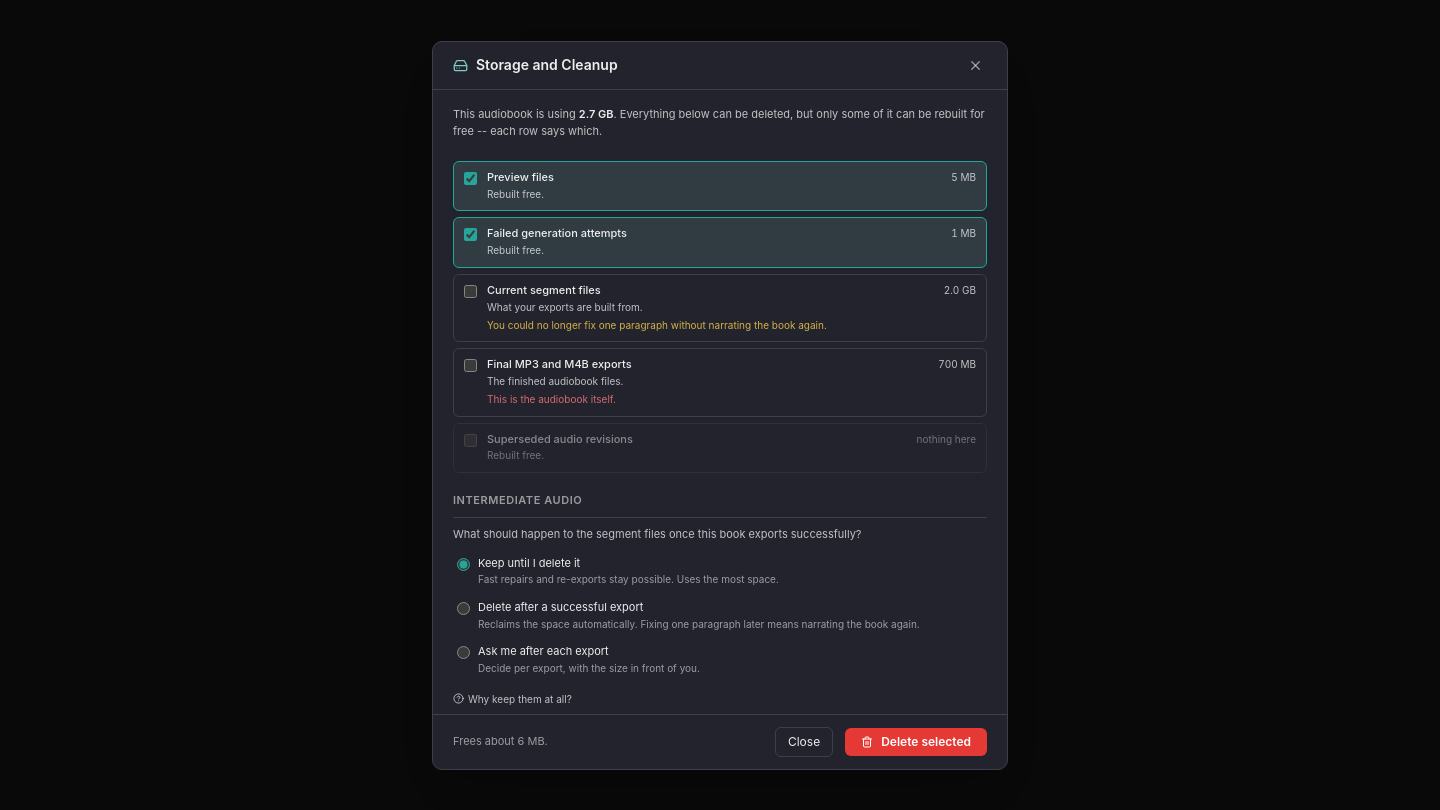
StorageDialog › cannot delete with nothing selected
The width and height of the screenshot is (1440, 810).
Expected: the text "Preview files" is shown, [487, 170, 554, 186]
Click the checkbox labelled "Preview files 5 MB Rebuilt free." at (470, 179), box [464, 172, 477, 185]
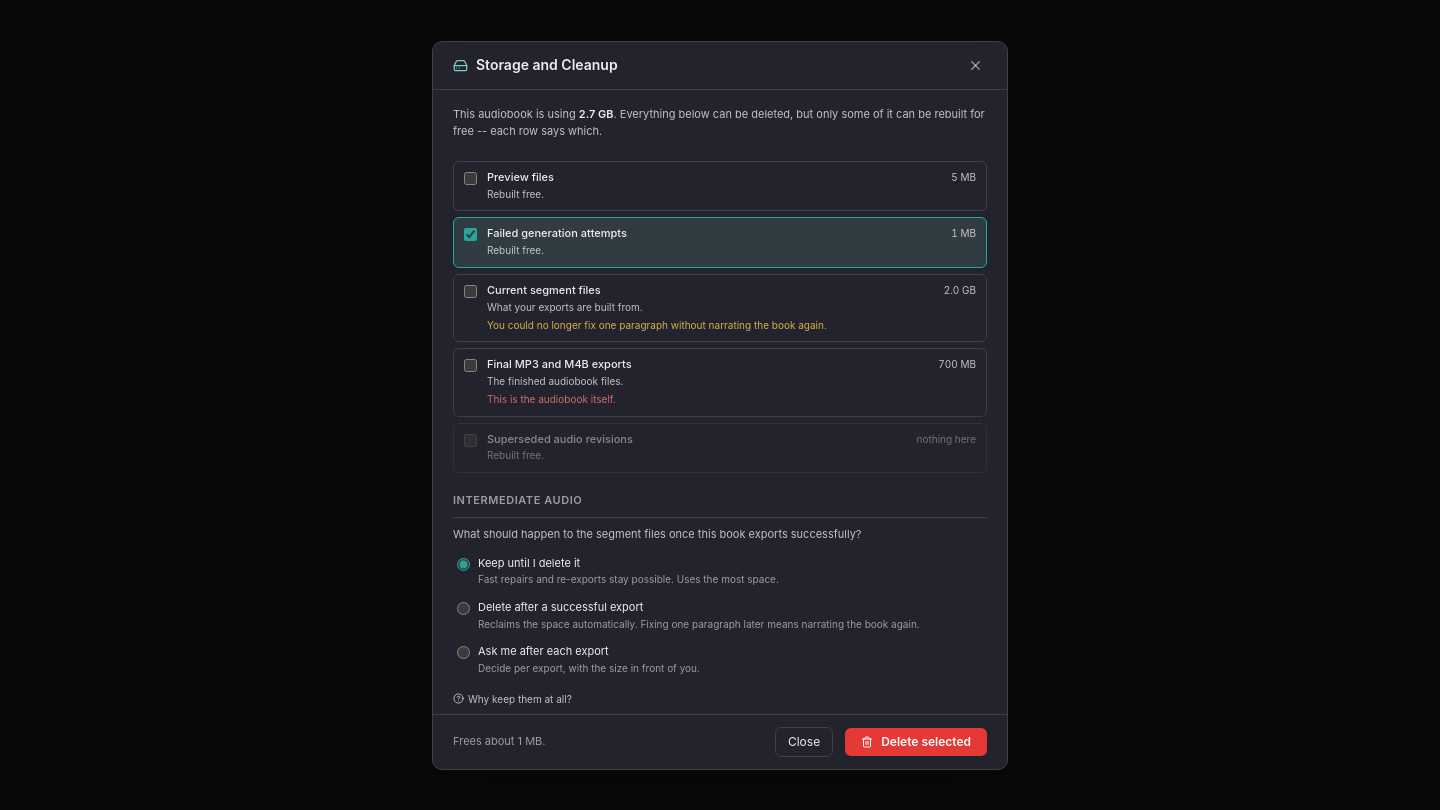
Click the checkbox labelled "Failed generation attempts 1 MB Rebuilt free." at (470, 235), box [464, 228, 477, 241]
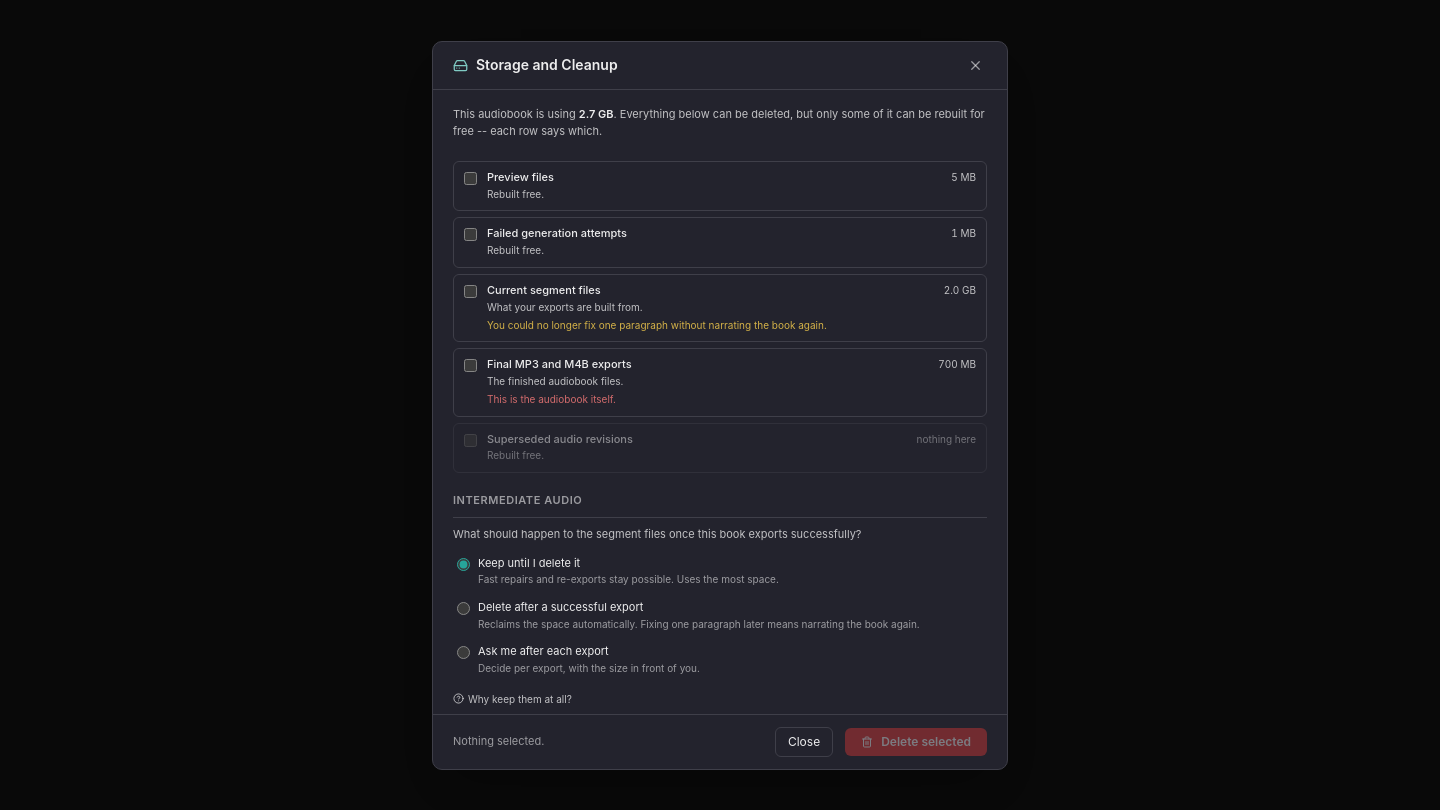
Expected: the button "Delete selected" is disabled, [845, 728, 987, 756]
Expected: the text "Nothing selected." is shown, [453, 734, 544, 748]
